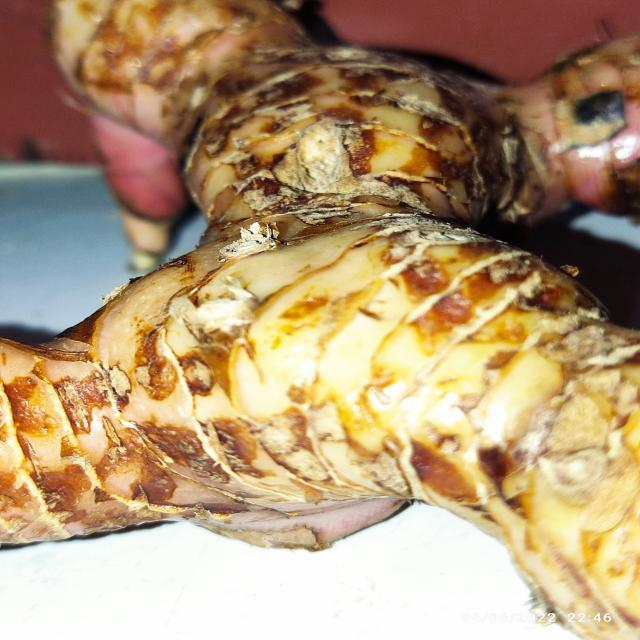ginger: (13, 4, 640, 574)
